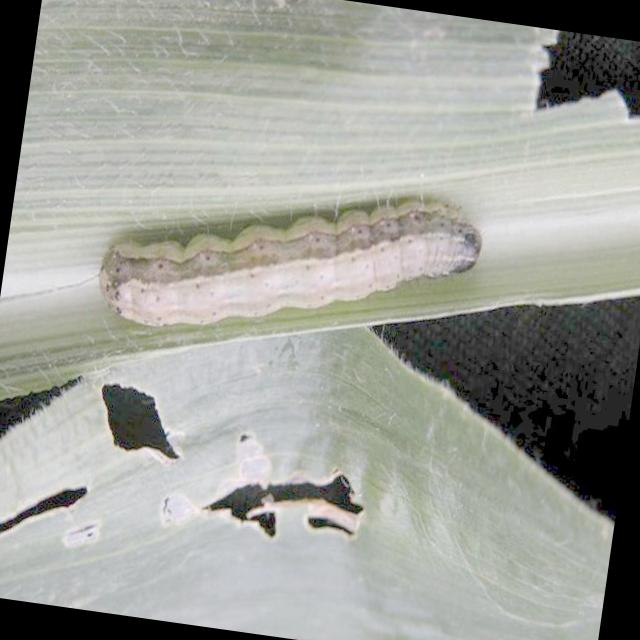pest: (89, 159, 481, 367)
